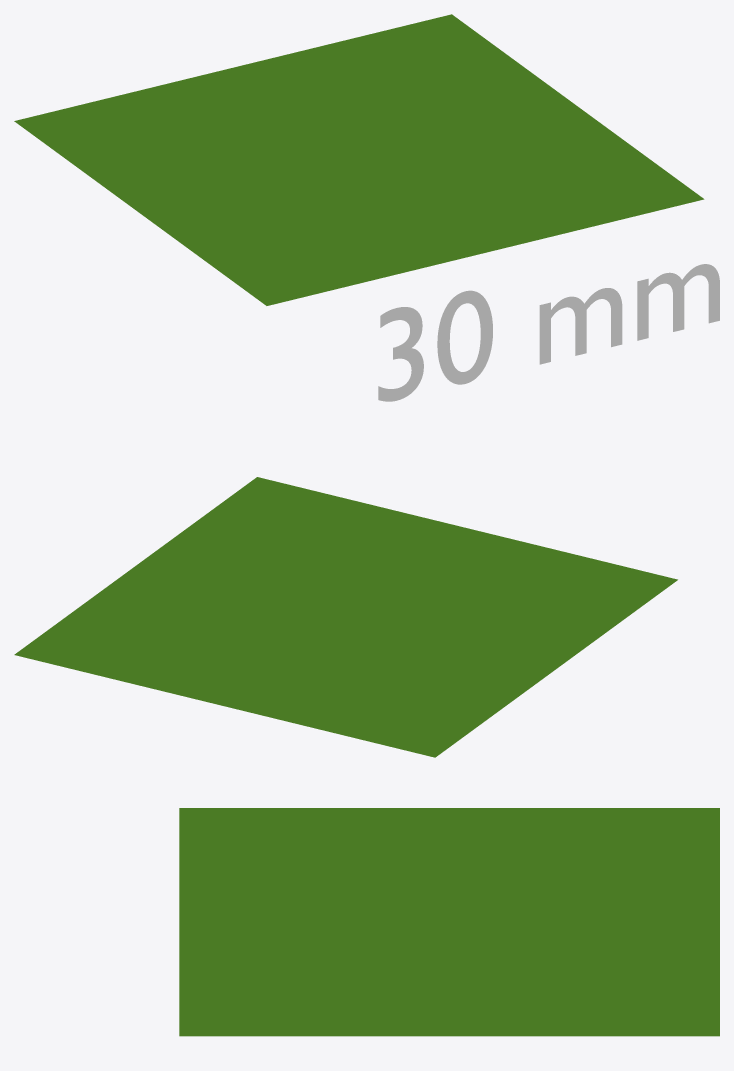
3 views of the same model, one above another, from view 1: azimuth 30°, elevation 25°; view 2: azimuth 150°, elevation 25°; view 3: azimuth 270°, elevation 25° (orthographic). The views are drawn at different scales.
Visible parts, largest first — view 1: Plane.001, Text.001; view 2: Plane.001; view 3: Plane.001.
Boxes of the visible parts, x1,y1,x2,y2 form: Plane.001: (14,14,704,305); Text.001: (378,264,719,401); Plane.001: (14,477,677,757); Plane.001: (179,808,719,1036).
Size of the model in its own units: 2 by 0.405 by 2.61.
